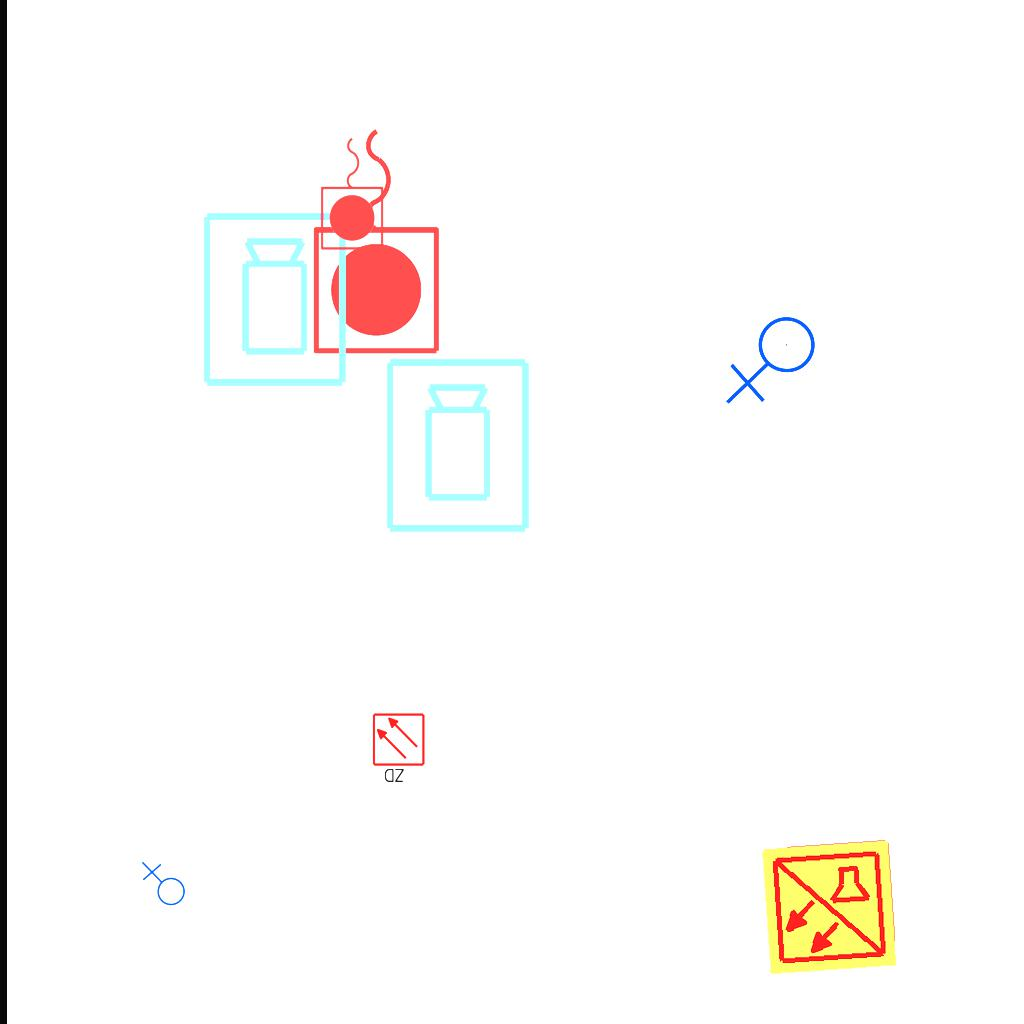Elektroanschluss_allgemein_230V_Geraeteanschlussdose_230V: (725, 315, 824, 409), (139, 861, 186, 910)
KFO_Kamera_mit_Festobjektiv: (382, 355, 536, 537), (199, 209, 353, 391)
OKW_Multisensormelder_(Kombination_optischer_Rauch-Kahlenmonoxid_Waerme-Melder): (758, 836, 900, 978)
ZD_Melder_in_Zwischendecke_mit_Revisionsoeffnung_mind_40_x_40_cm: (371, 712, 428, 786)
Zugtaster: (306, 118, 450, 362), (317, 132, 389, 254)
